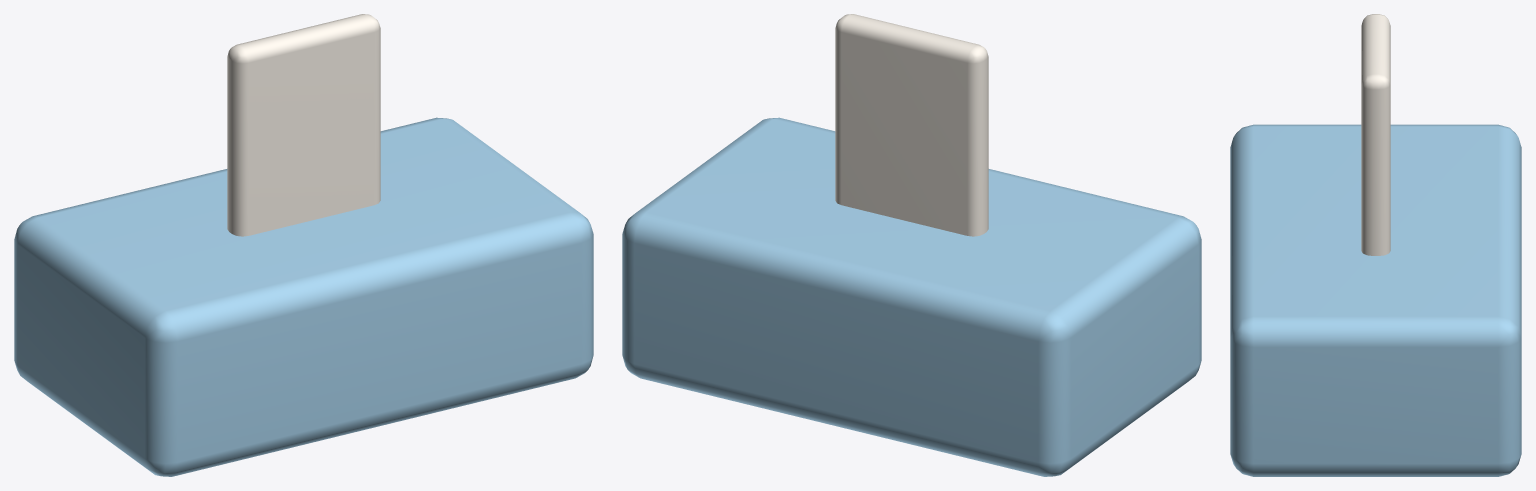
File: bathroomTissues.glb
3 views of the same model, side by side, from view 1: azimuth 30°, elevation 25°; view 2: azimuth 150°, elevation 25°; view 3: azimuth 270°, elevation 25° (orthographic). The views are drawn at different scales.
Parts seen in each view (by area): view 1: Tissue box, Tissue; view 2: Tissue box, Tissue; view 3: Tissue box, Tissue.
Boxes of the visible parts, box(x1,y1,x2,y2) form: Tissue box: box(14, 117, 593, 476); Tissue: box(227, 14, 380, 236); Tissue box: box(622, 117, 1201, 476); Tissue: box(835, 14, 988, 236); Tissue box: box(1230, 124, 1521, 476); Tissue: box(1361, 14, 1390, 255).
Size of the model in its own units: 0.85 by 0.635 by 0.5.
